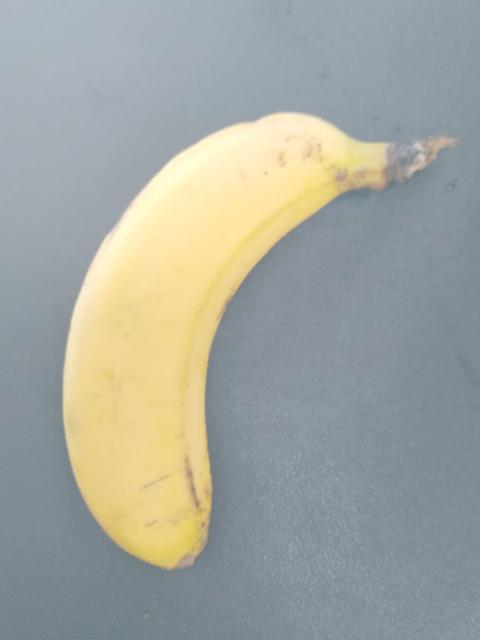freshripe: (27, 96, 384, 636)
